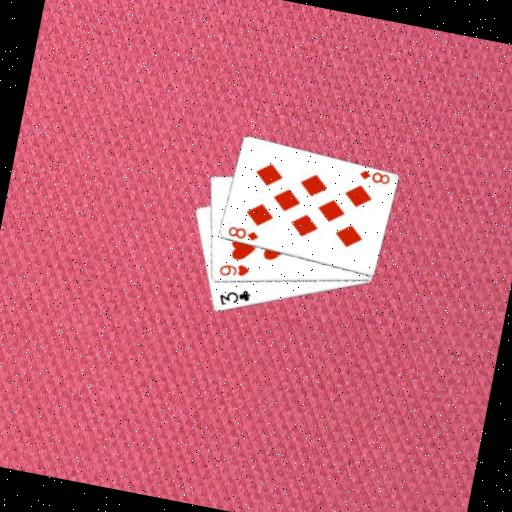3C: (215, 282, 254, 312)
8D: (224, 222, 261, 243), (355, 167, 392, 187)
9H: (215, 258, 252, 283)
